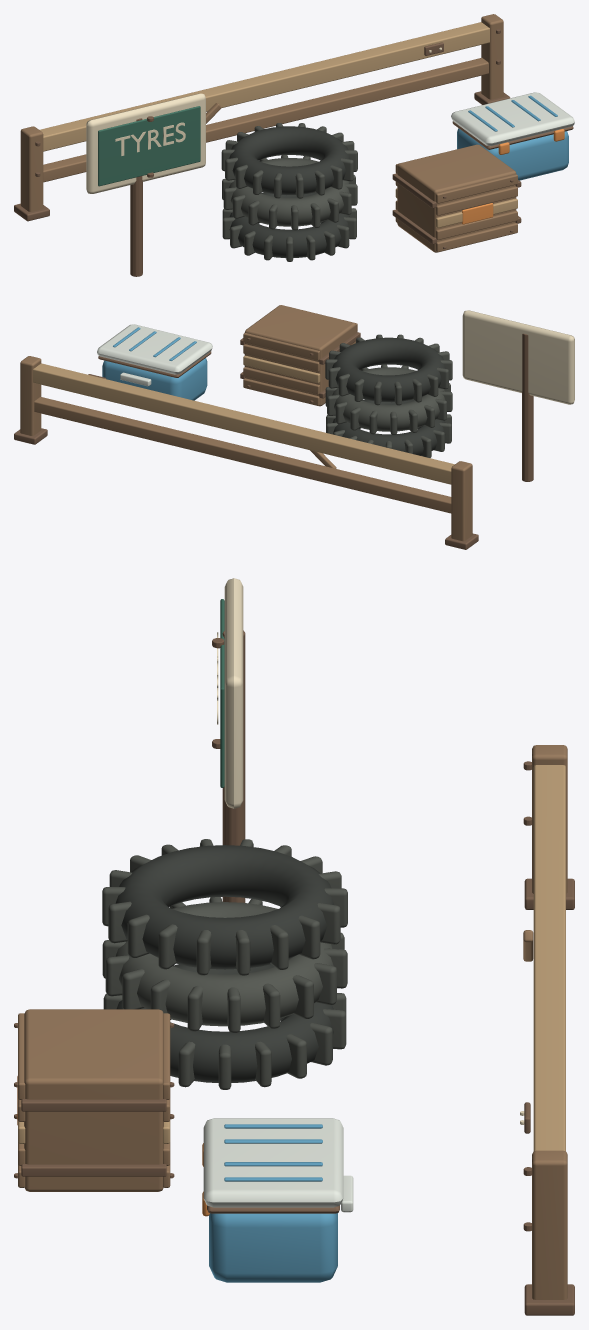
Rendered from smoko_roadside_cluster.glb.
3 renders of one model, top to bottom at view 1: azimuth 30°, elevation 25°; view 2: azimuth 150°, elevation 25°; view 3: azimuth 270°, elevation 25°, orthographic. The views are drawn at different scales.
Parts seen in each view (by area): view 1: Smoko roadside tyre esky and rail cluster.001; view 2: Smoko roadside tyre esky and rail cluster.001; view 3: Smoko roadside tyre esky and rail cluster.001.
Part boxes in pixels (x1=…): Smoko roadside tyre esky and rail cluster.001: x1=14, y1=14, x2=574, y2=276; Smoko roadside tyre esky and rail cluster.001: x1=14, y1=305, x2=574, y2=549; Smoko roadside tyre esky and rail cluster.001: x1=14, y1=578, x2=574, y2=1315.
Bounding box in the file's own units: 5.87 × 1.83 × 3.13.
